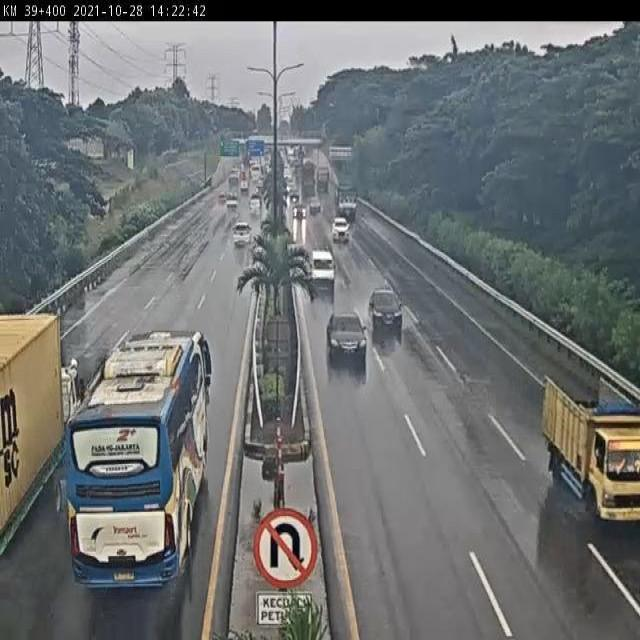bus-l-: (66, 329, 211, 587)
truck-s-: (543, 367, 640, 524)
